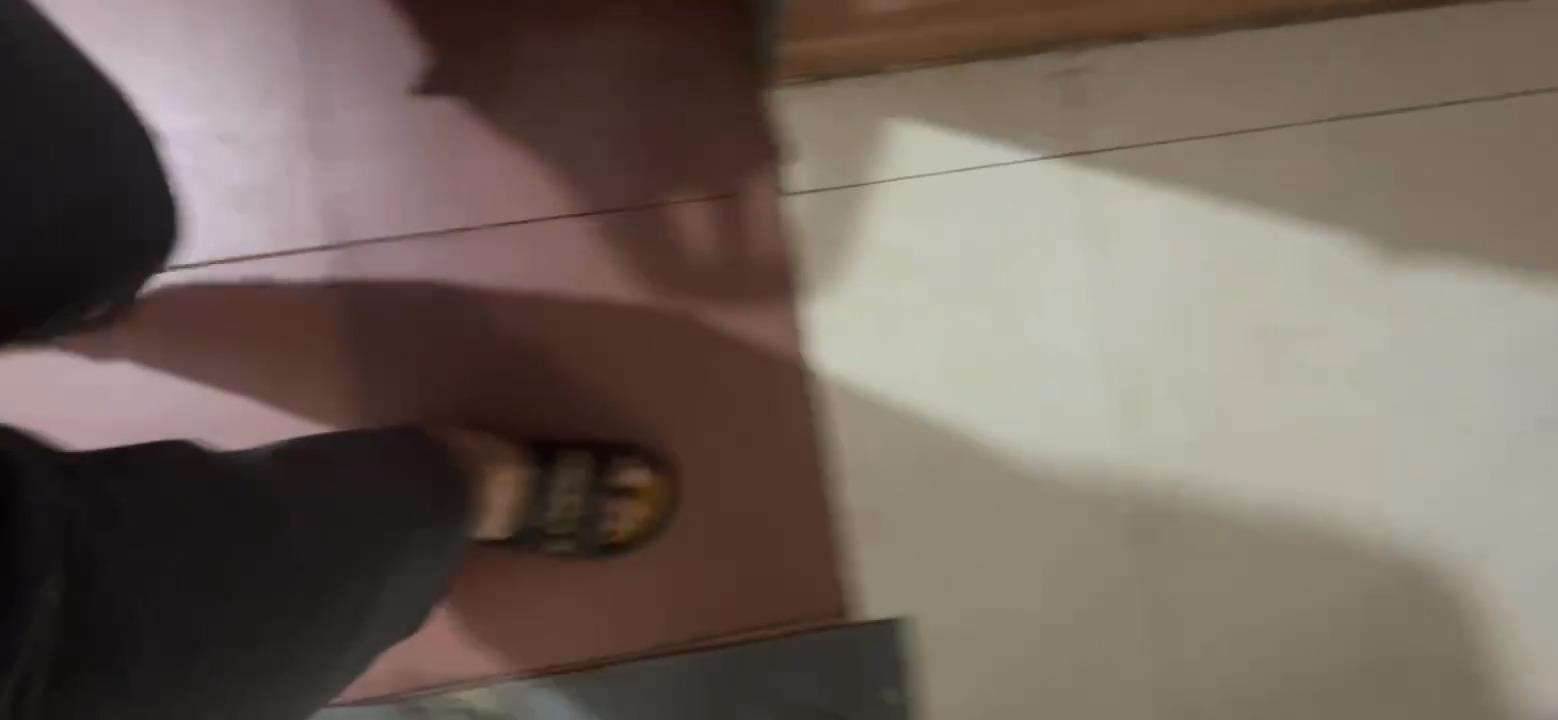no-boot: (409, 403, 679, 565)
